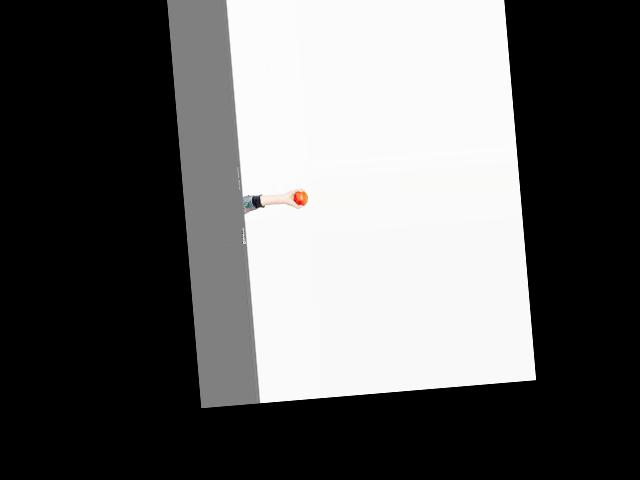tomato: (293, 190, 308, 206)
